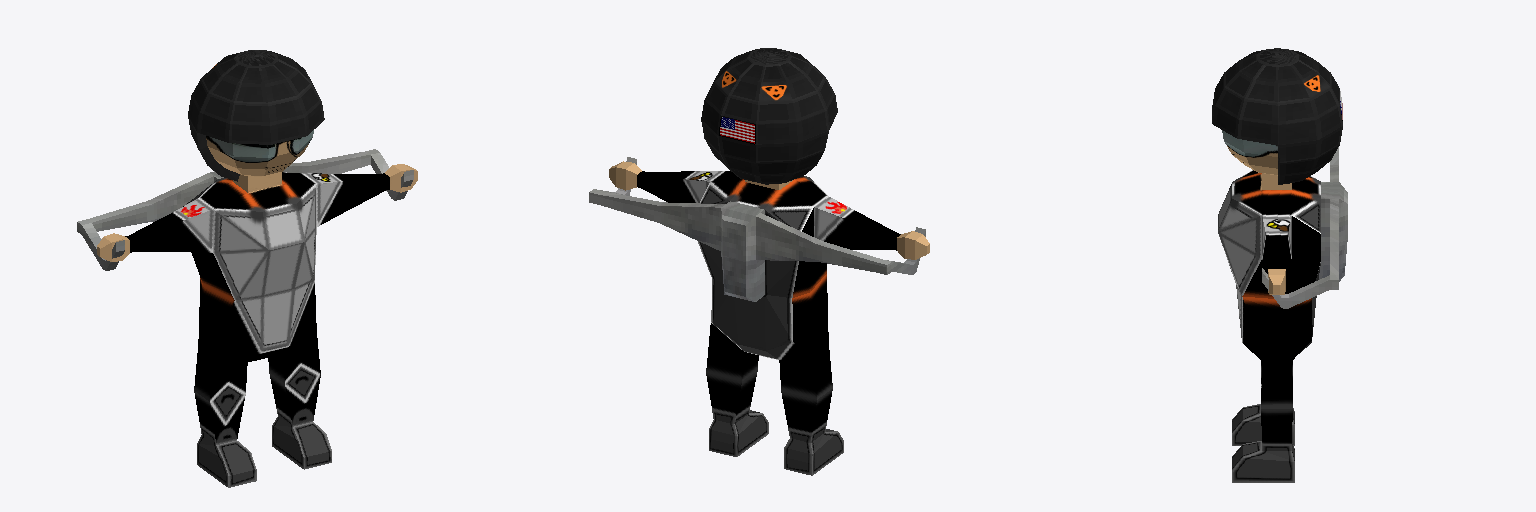
3 views of the same model, side by side, from view 1: azimuth 30°, elevation 25°; view 2: azimuth 150°, elevation 25°; view 3: azimuth 270°, elevation 25° (orthographic).
Visible parts, largest first — view 1: polySurface1; view 2: polySurface1; view 3: polySurface1.
Boxes of the visible parts, <box> form: polySurface1: <box>77,50,417,487</box>; polySurface1: <box>589,48,929,475</box>; polySurface1: <box>1212,48,1347,482</box>.
Size of the model in its own units: 12.04 by 14.61 by 4.44.
1 materials, 1 textured.